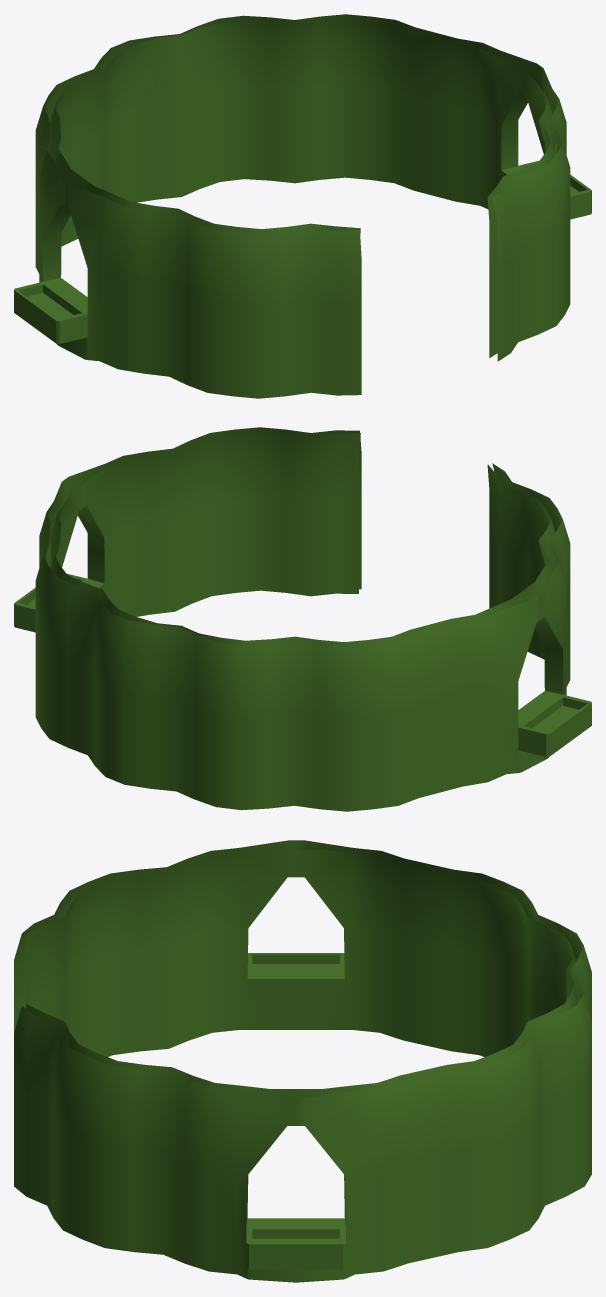
File: Haus.fbx
3 views of the same model, one above another, from view 1: azimuth 30°, elevation 25°; view 2: azimuth 150°, elevation 25°; view 3: azimuth 270°, elevation 25° (orthographic). The views are drawn at different scales.
Visible parts, largest first — view 1: Island.001; view 2: Island.001; view 3: Island.001.
Boxes of the visible parts, x1,y1,x2,y2 form: Island.001: [14, 14, 591, 398]; Island.001: [14, 427, 591, 811]; Island.001: [14, 840, 591, 1282].
Bounding box in the file's own units: 6.25 × 1.8 × 5.25.
